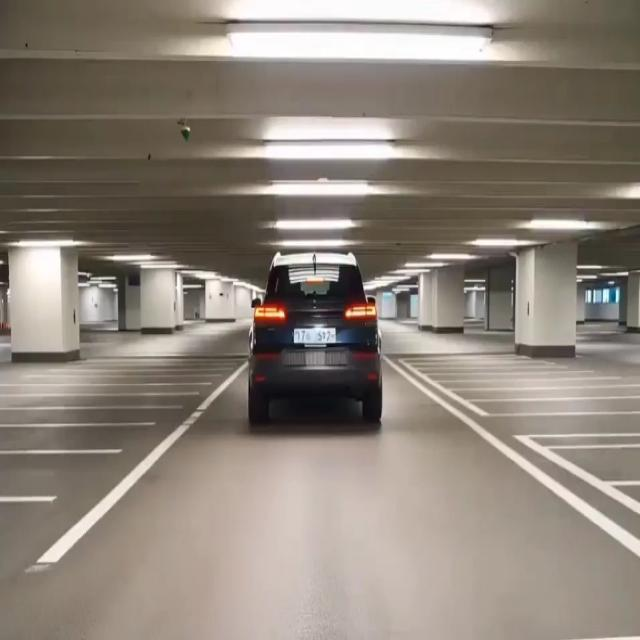car: (294, 326, 337, 346)
